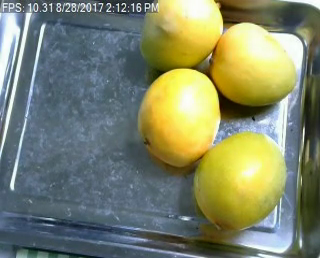Mango: (194, 130, 285, 226), (137, 68, 222, 166), (212, 20, 298, 103), (138, 0, 224, 68)
